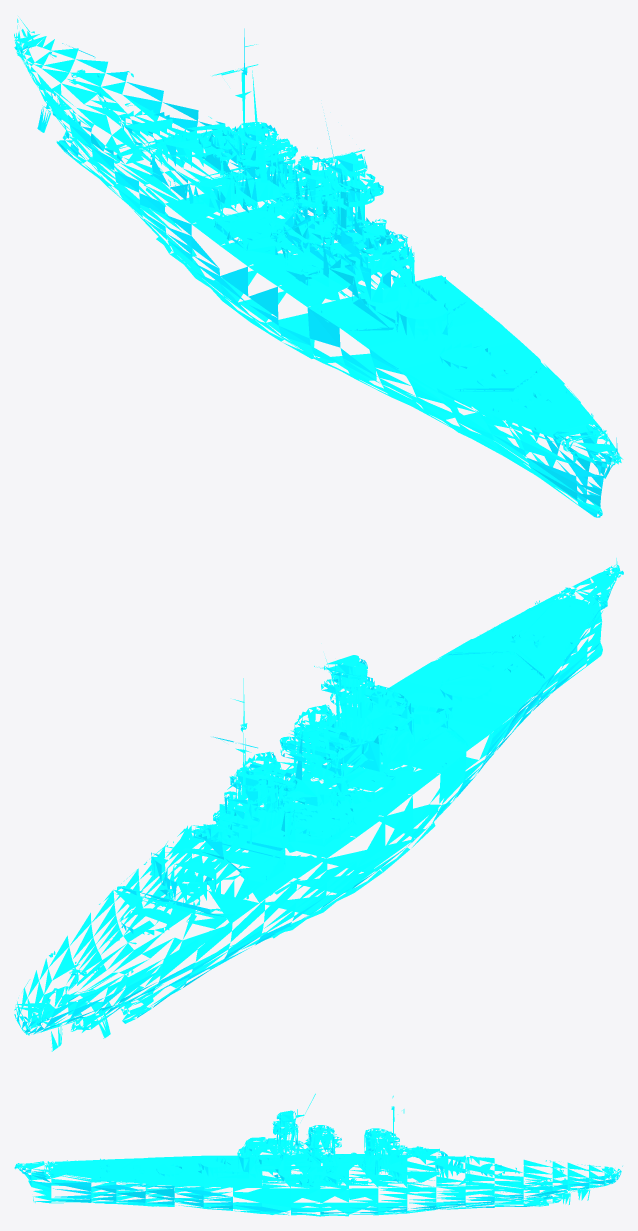
File: Friedrich_der_Grosse.glb
3 views of the same model, one above another, from view 1: azimuth 30°, elevation 25°; view 2: azimuth 150°, elevation 25°; view 3: azimuth 270°, elevation 25° (orthographic). The views are drawn at different scales.
Bounding box in the file's own units: 2.45 × 4.11 × 18.61.
